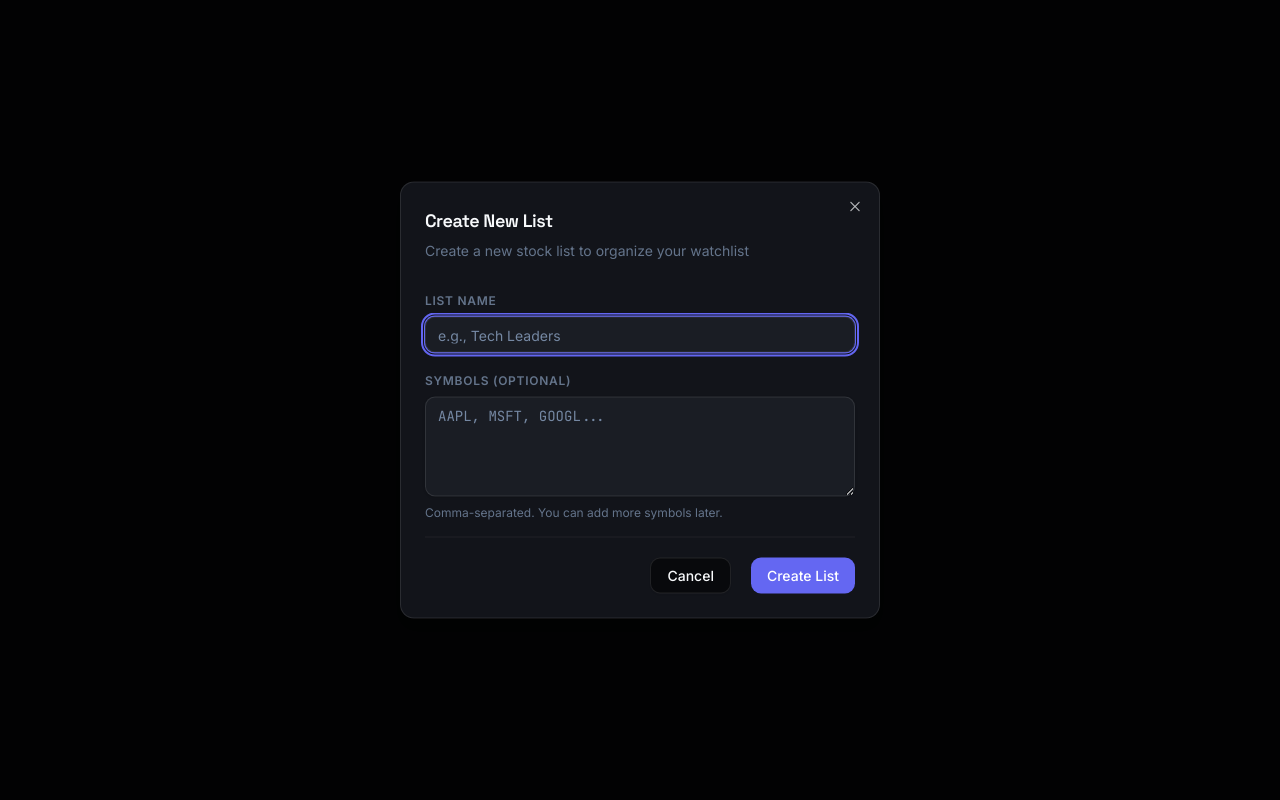
Scenario: CreateListDialog › Error Handling › displays error message when submission fails
Type "Duplicate List" into the field labelled "List Name".
click(640, 334); type("Duplicate List")  # box [425, 316, 855, 352]
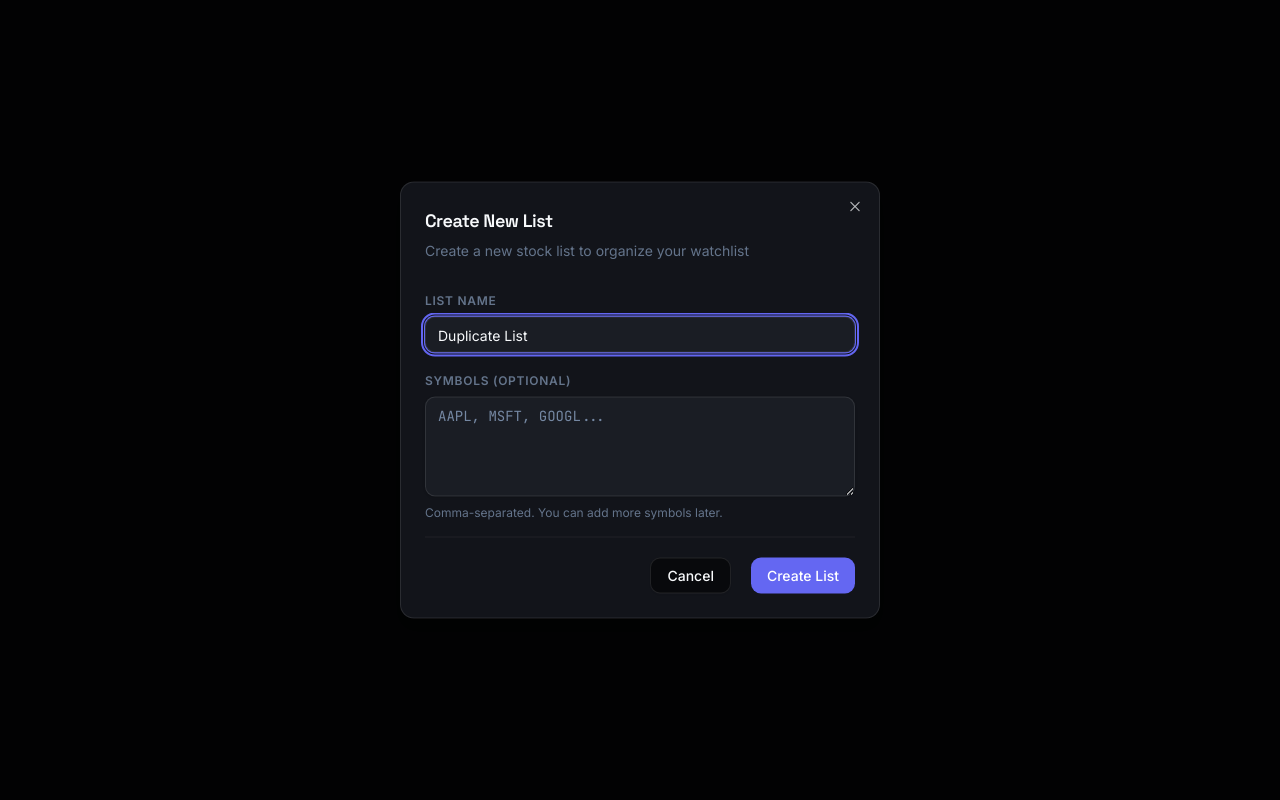
Click the button "Create List".
click(803, 576)  # box [751, 558, 855, 594]
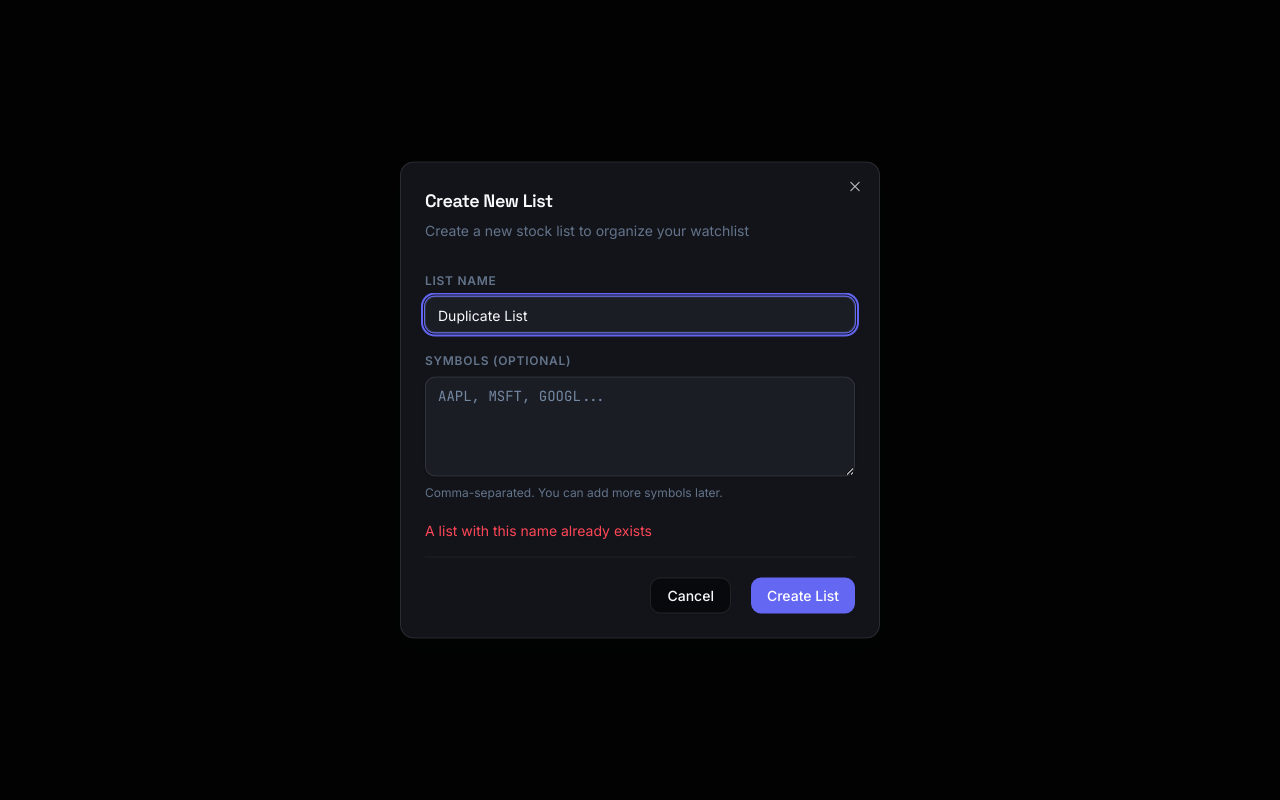
Expected: the text "A list with this name already exists" is shown, [425, 522, 652, 538]
